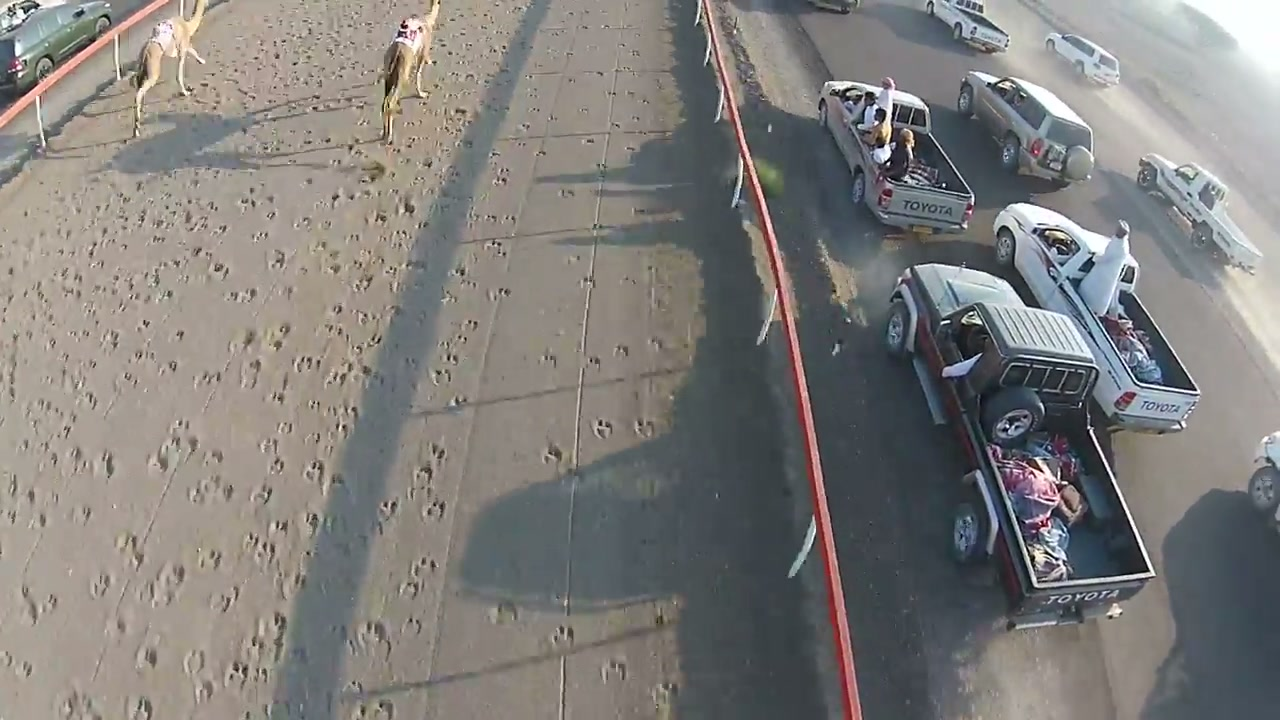animal_footprint: (249, 91, 504, 717), (38, 35, 306, 513)
